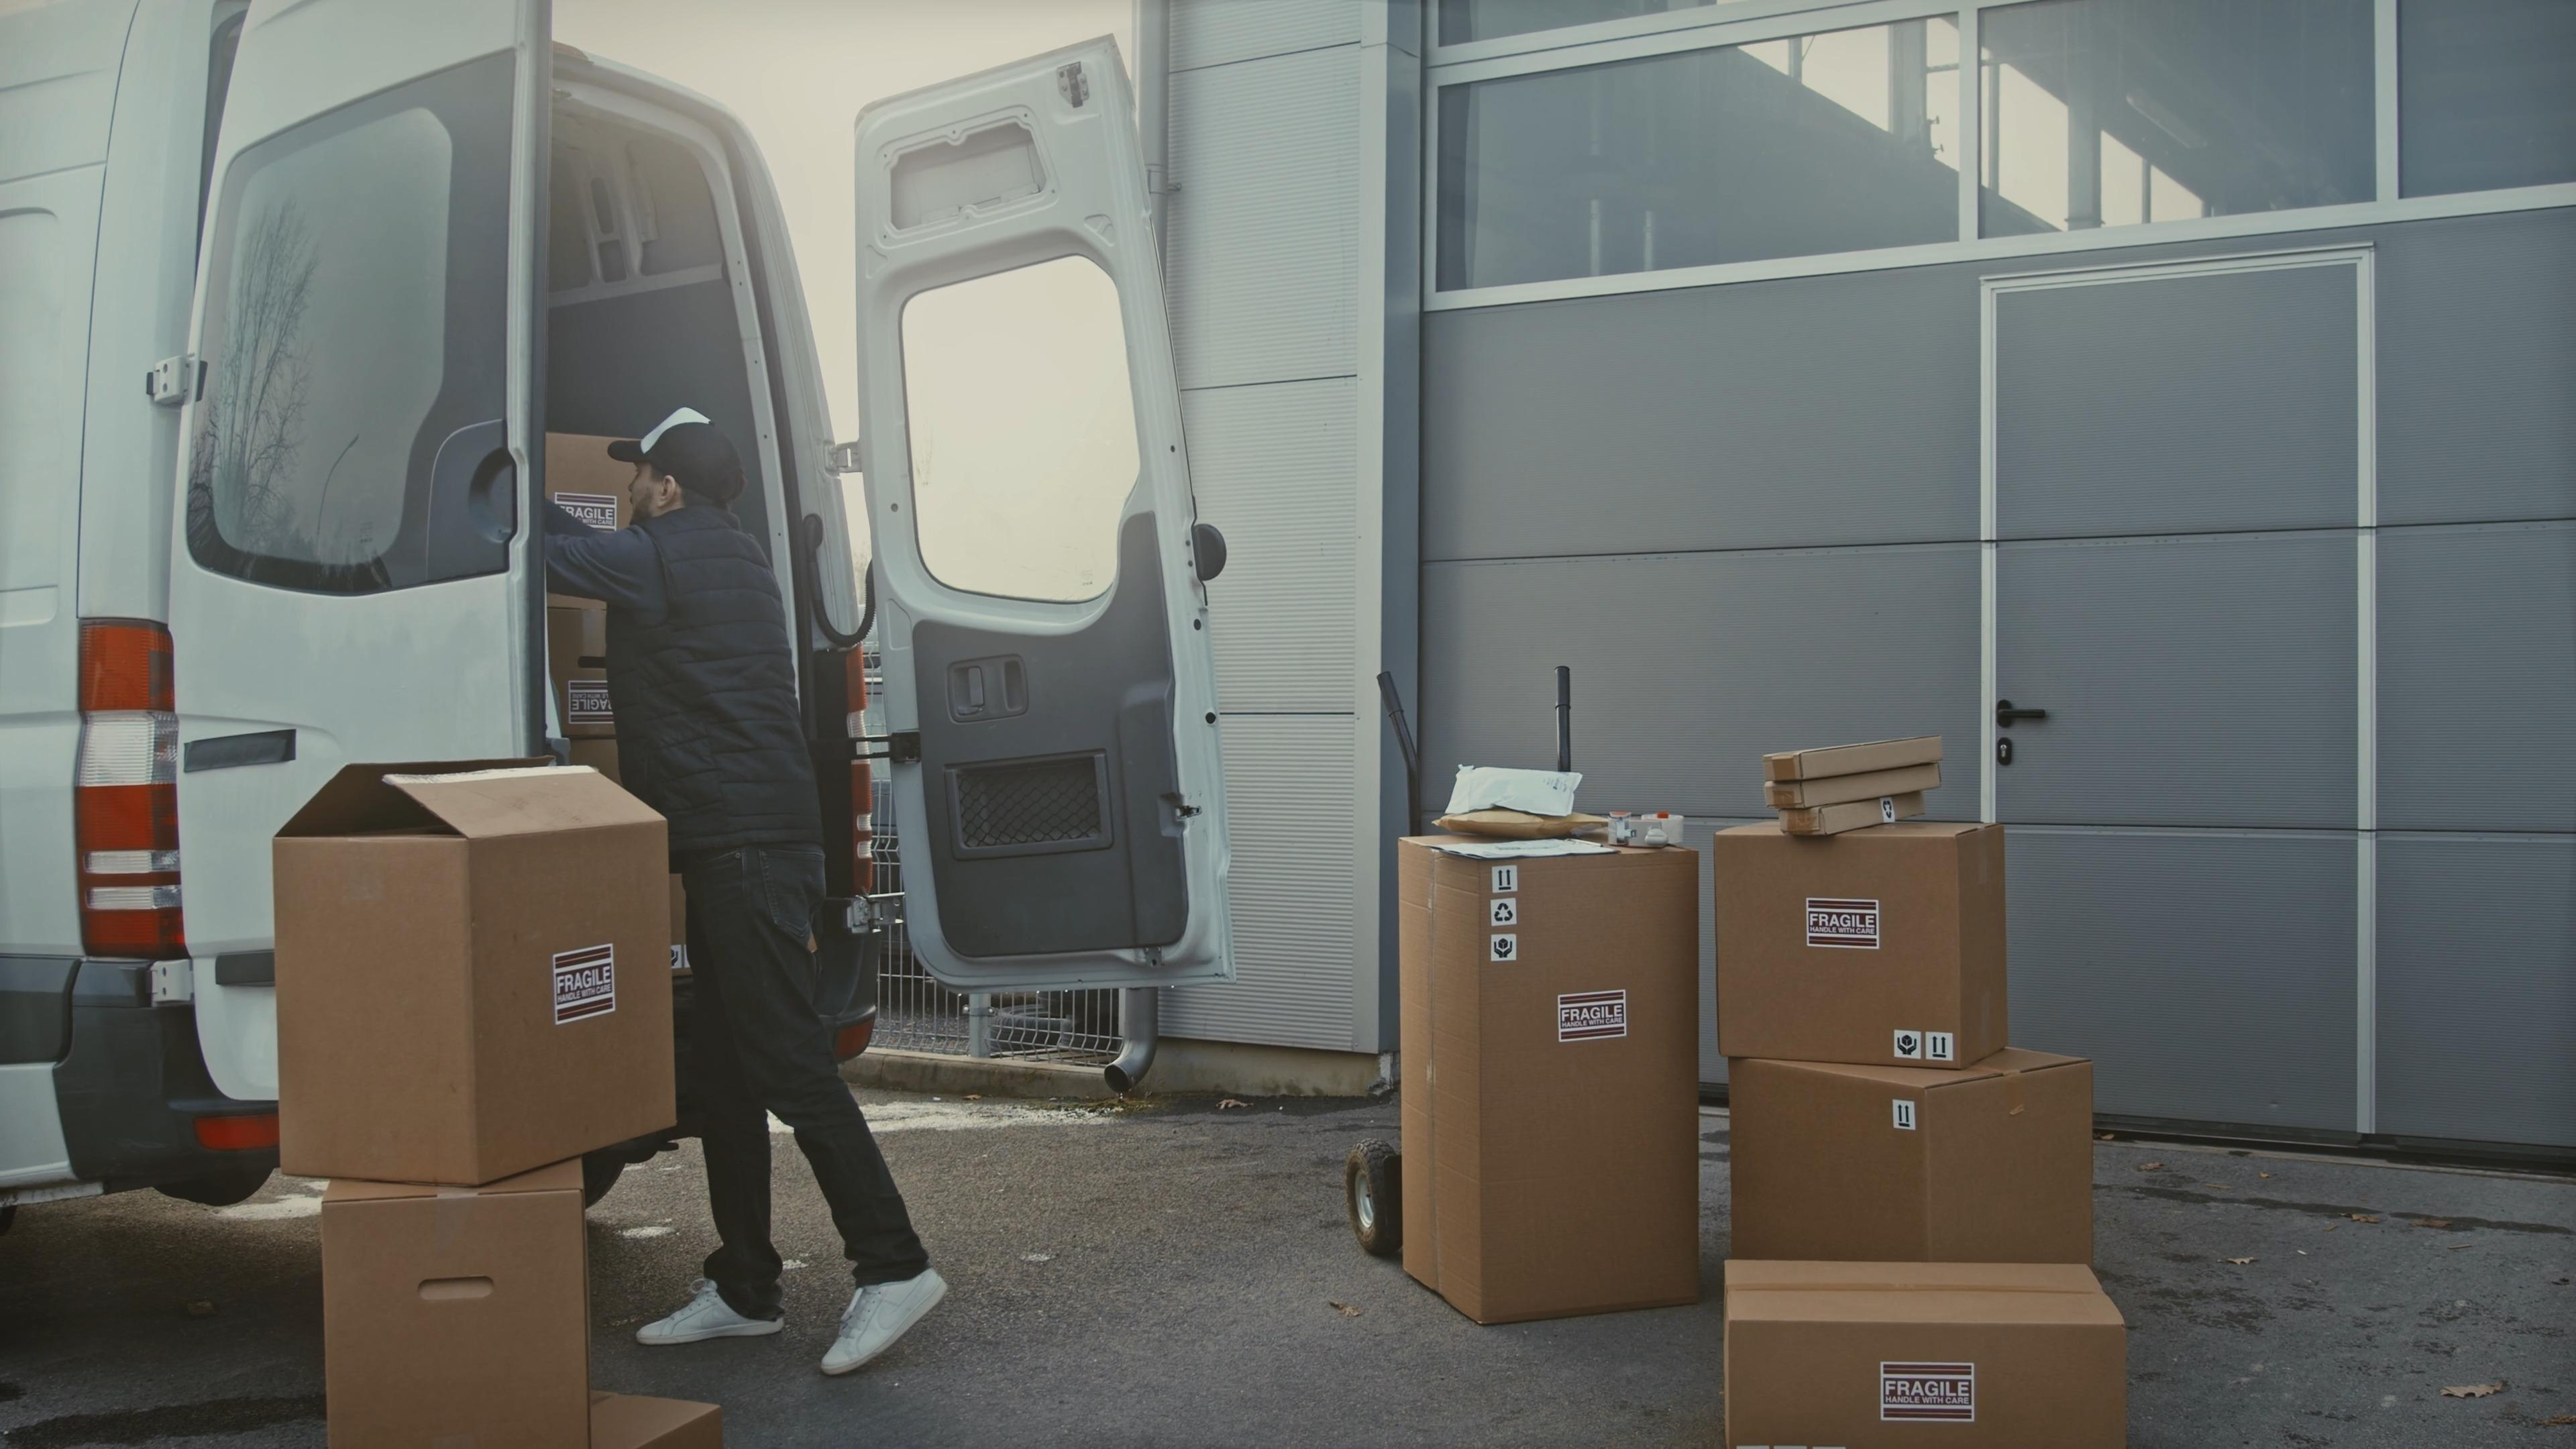-: (280, 748, 686, 1187), (1392, 816, 1714, 1323), (1721, 1242, 2132, 1449), (1737, 1044, 2100, 1260), (317, 1182, 593, 1449), (1704, 823, 2006, 1063), (1766, 736, 1943, 780), (1746, 766, 1946, 803), (1775, 793, 1925, 833)
